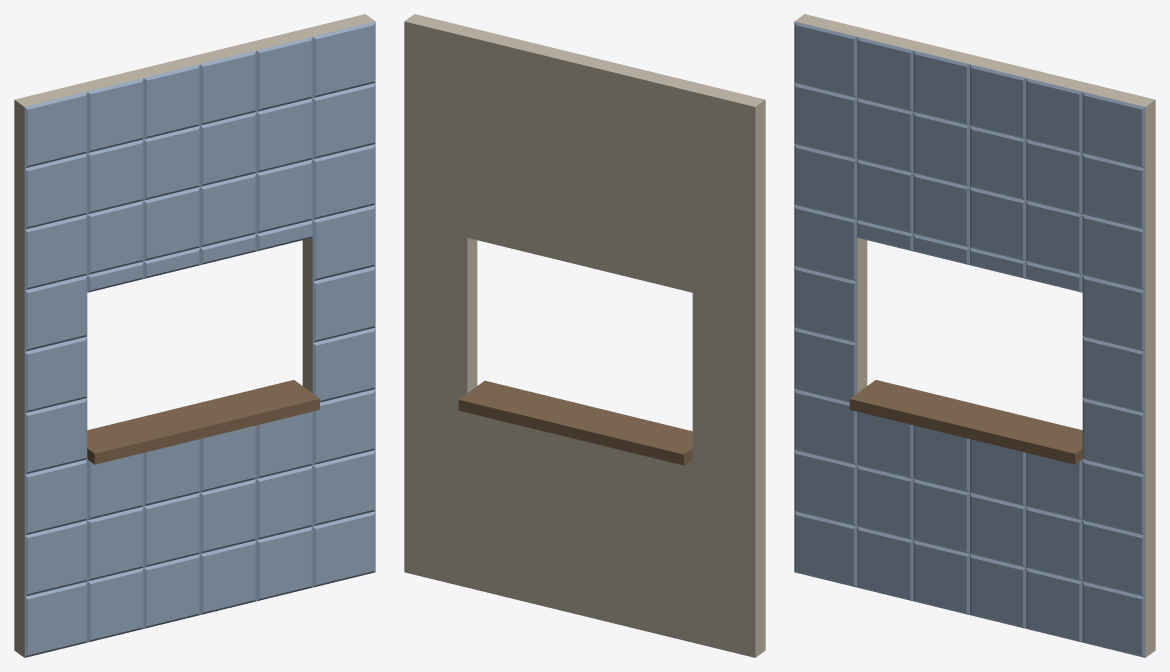
Rendered from Mesh_WallCeramic_D2.fbx.
3 views of the same model, side by side, from view 1: azimuth 30°, elevation 25°; view 2: azimuth 150°, elevation 25°; view 3: azimuth 330°, elevation 25° (orthographic).
Parts seen in each view (by area): view 1: Mesh_WallCeramic_D2; view 2: Mesh_WallCeramic_D2; view 3: Mesh_WallCeramic_D2.
Part boxes in pixels (bbox=[...]): Mesh_WallCeramic_D2: bbox=[14, 14, 375, 657]; Mesh_WallCeramic_D2: bbox=[404, 14, 765, 657]; Mesh_WallCeramic_D2: bbox=[794, 14, 1155, 657].
Bounding box in the file's own units: 2 × 3 × 0.2574.
